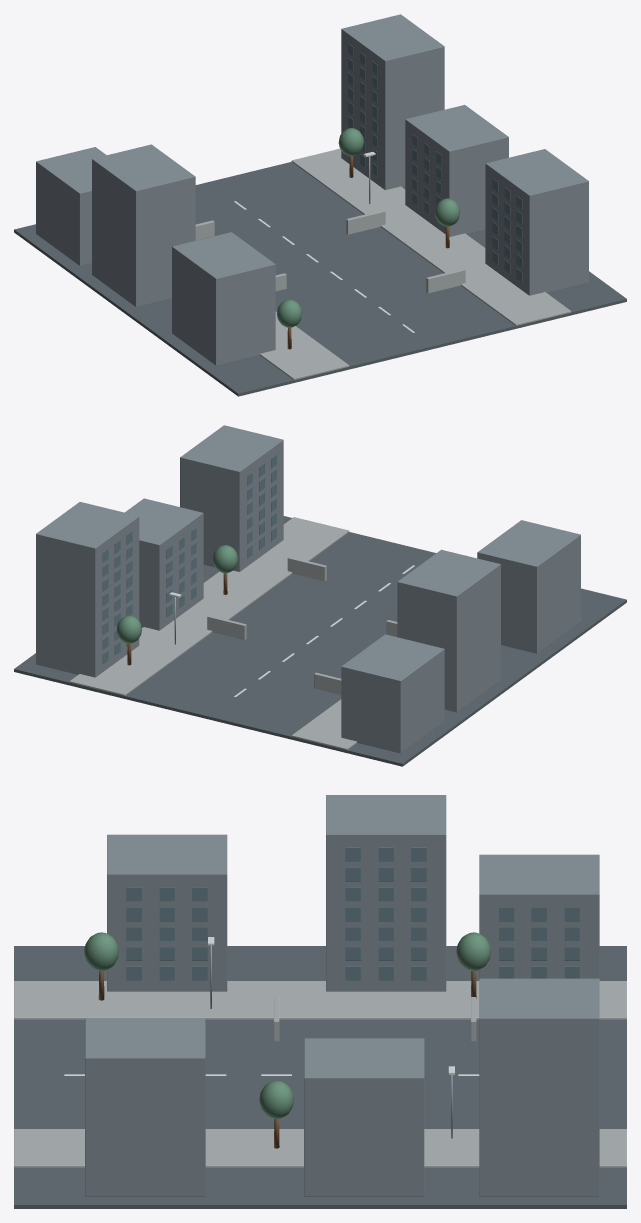
The model's file is city.glb.
3 renders of one model, top to bottom at view 1: azimuth 30°, elevation 25°; view 2: azimuth 150°, elevation 25°; view 3: azimuth 270°, elevation 25°, orthographic. The views are drawn at different scales.
Visible parts, largest first — view 1: City_Road, Building_1, Building_3, Building_5, Building_0, City_Sidewalk8, Building_4, Building_2, City_Sidewalk-8, LowWall_1, LowWall_3, TreeCrown_2 (+2 smaller); view 2: City_Road, Building_5, Building_1, Building_3, Building_2, City_Sidewalk8, Building_0, Building_4, City_Sidewalk-8, LowWall_1, LowWall_3, TreeCrown_3 (+1 smaller); view 3: City_Road, Building_5, Building_3, Building_1, Building_4, City_Sidewalk-8, Building_0, Building_2, City_Sidewalk8, TreeCrown_1, TreeCrown_2, TreeCrown_0.
Part boxes in pixels (x1,y1,x2,y2): City_Road: (14,162,626,396); Building_1: (92,144,195,306); Building_3: (485,149,588,295); Building_5: (341,14,444,190); Building_0: (172,232,275,365); City_Sidewalk8: (291,148,571,325); Building_4: (405,105,508,236); Building_2: (36,147,106,265); City_Sidewalk-8: (260,311,349,379); LowWall_1: (346,210,385,234); LowWall_3: (426,268,465,293); TreeCrown_2: (435,198,460,226); City_Road: (14,516,626,766); Building_5: (36,502,139,677); Building_1: (397,549,500,712); Building_3: (180,425,283,571); Building_2: (341,634,444,753); City_Sidewalk8: (69,517,349,695); Building_0: (477,520,580,653); Building_4: (125,498,203,630); City_Sidewalk-8: (291,699,356,750); LowWall_1: (207,615,246,639); LowWall_3: (287,556,326,581); TreeCrown_3: (116,615,141,643); City_Road: (14,946,626,1208); Building_5: (479,978,599,1196); Building_3: (85,1018,205,1196); Building_1: (326,795,446,991); Building_4: (304,1038,424,1196); City_Sidewalk-8: (14,981,626,1019); Building_0: (107,834,227,991); Building_2: (479,854,599,978); City_Sidewalk8: (14,1129,626,1167); TreeCrown_1: (456,932,491,970); TreeCrown_2: (259,1080,294,1118); TreeCrown_0: (84,932,118,970).
Size of the model in its own units: 28 by 9.2 by 28.
